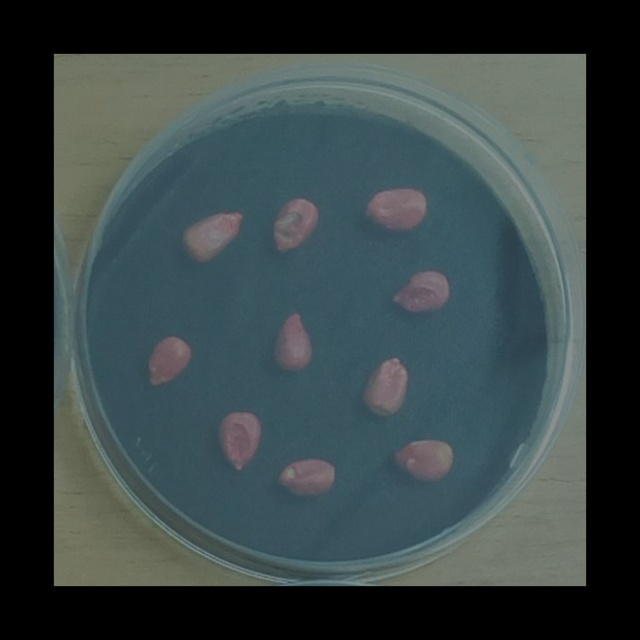Zea mays: (176, 205, 250, 270), (356, 351, 414, 423), (267, 192, 324, 263), (212, 406, 268, 478), (384, 264, 455, 320), (387, 433, 458, 489), (358, 183, 432, 236), (267, 305, 318, 378), (270, 453, 339, 503), (141, 332, 196, 394)
